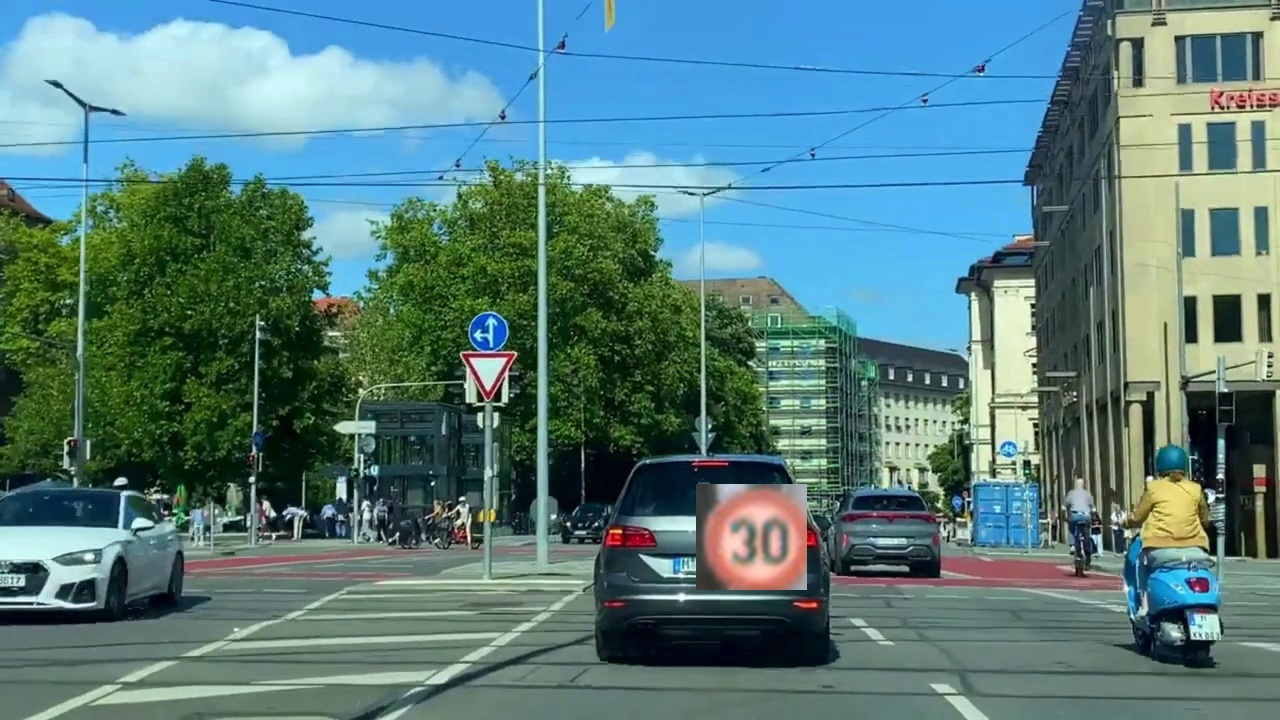Speed 30: (696, 484, 807, 590)
